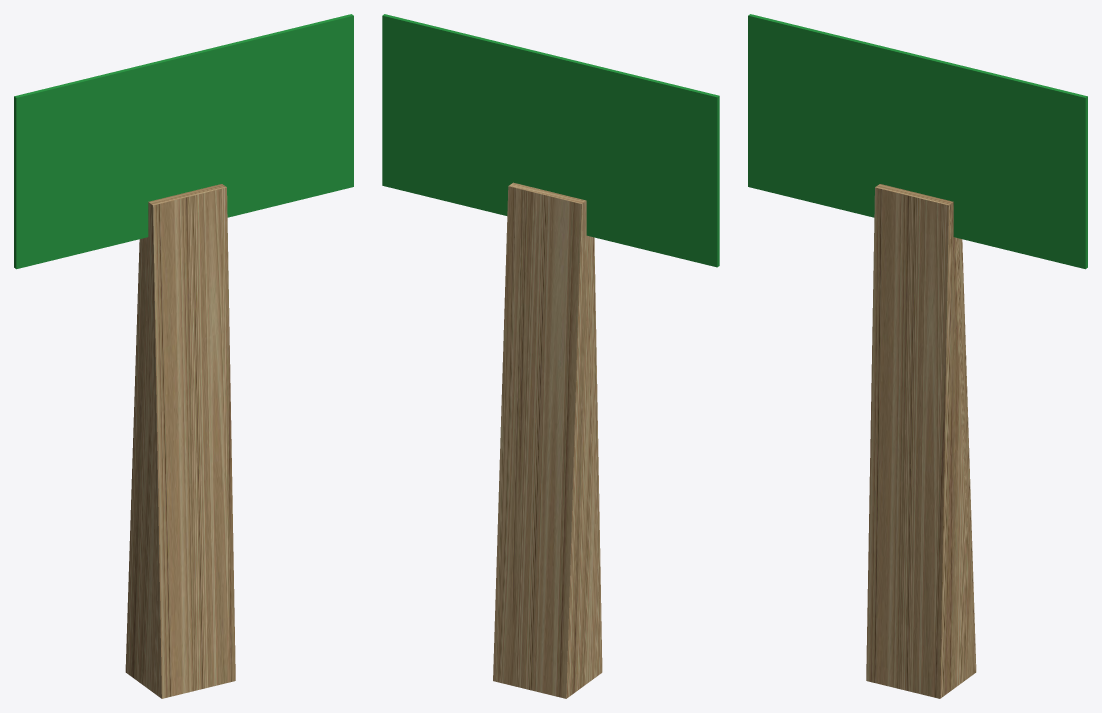
The model's file is DeskWithSurface.glb.
3 renders of one model, left to right at view 1: azimuth 30°, elevation 25°; view 2: azimuth 150°, elevation 25°; view 3: azimuth 330°, elevation 25°, orthographic.
Parts seen in each view (by area): view 1: Плата пушки; view 2: Плата пушки; view 3: Плата пушки.
Part boxes in pixels (x1,y1,x2,y2): Плата пушки: (14, 14, 353, 698); Плата пушки: (382, 14, 719, 698); Плата пушки: (748, 14, 1087, 698).
Size of the model in its own units: 1.37 by 2.41 by 0.2548.
2 materials, 1 textured.
